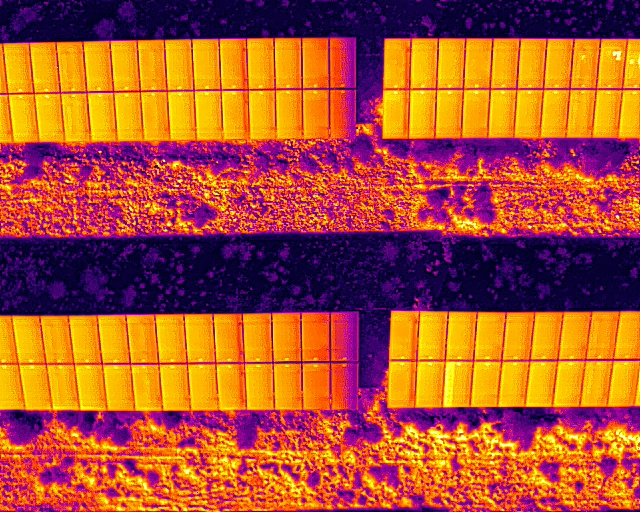photovoltaic_panels: (1, 35, 358, 145), (1, 309, 363, 413), (380, 35, 639, 141), (384, 308, 639, 410)
single_spot: (594, 37, 629, 90), (568, 38, 602, 90)
stripe_spot: (440, 357, 476, 408)
